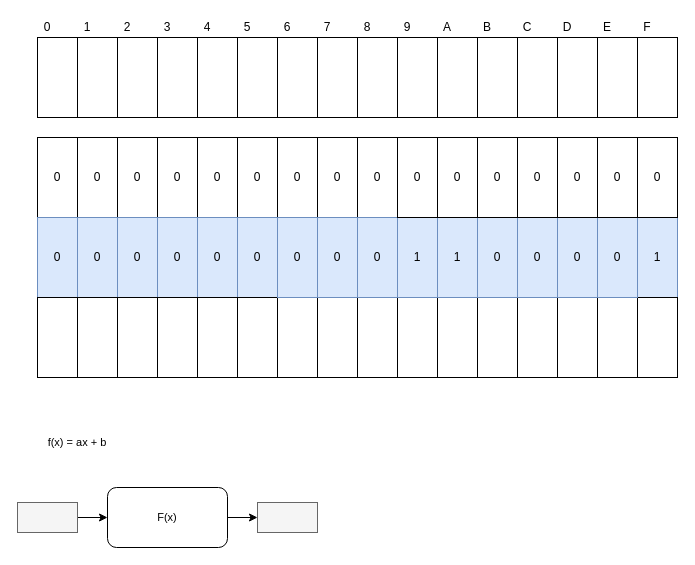
This 695x565 diagram has some shape labels left out. Here are the shapes that lost their labels. From the top down, the centre of each, then its label:
At [47,517]: "Input".
At [287,517]: "Output".
